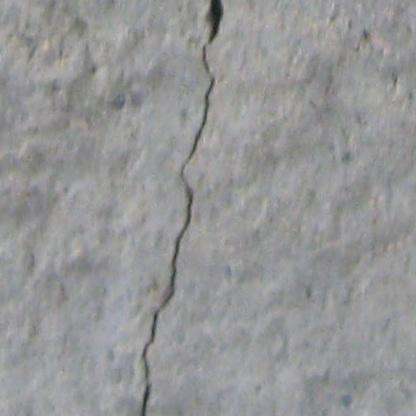Cracks: (136, 0, 228, 416)
